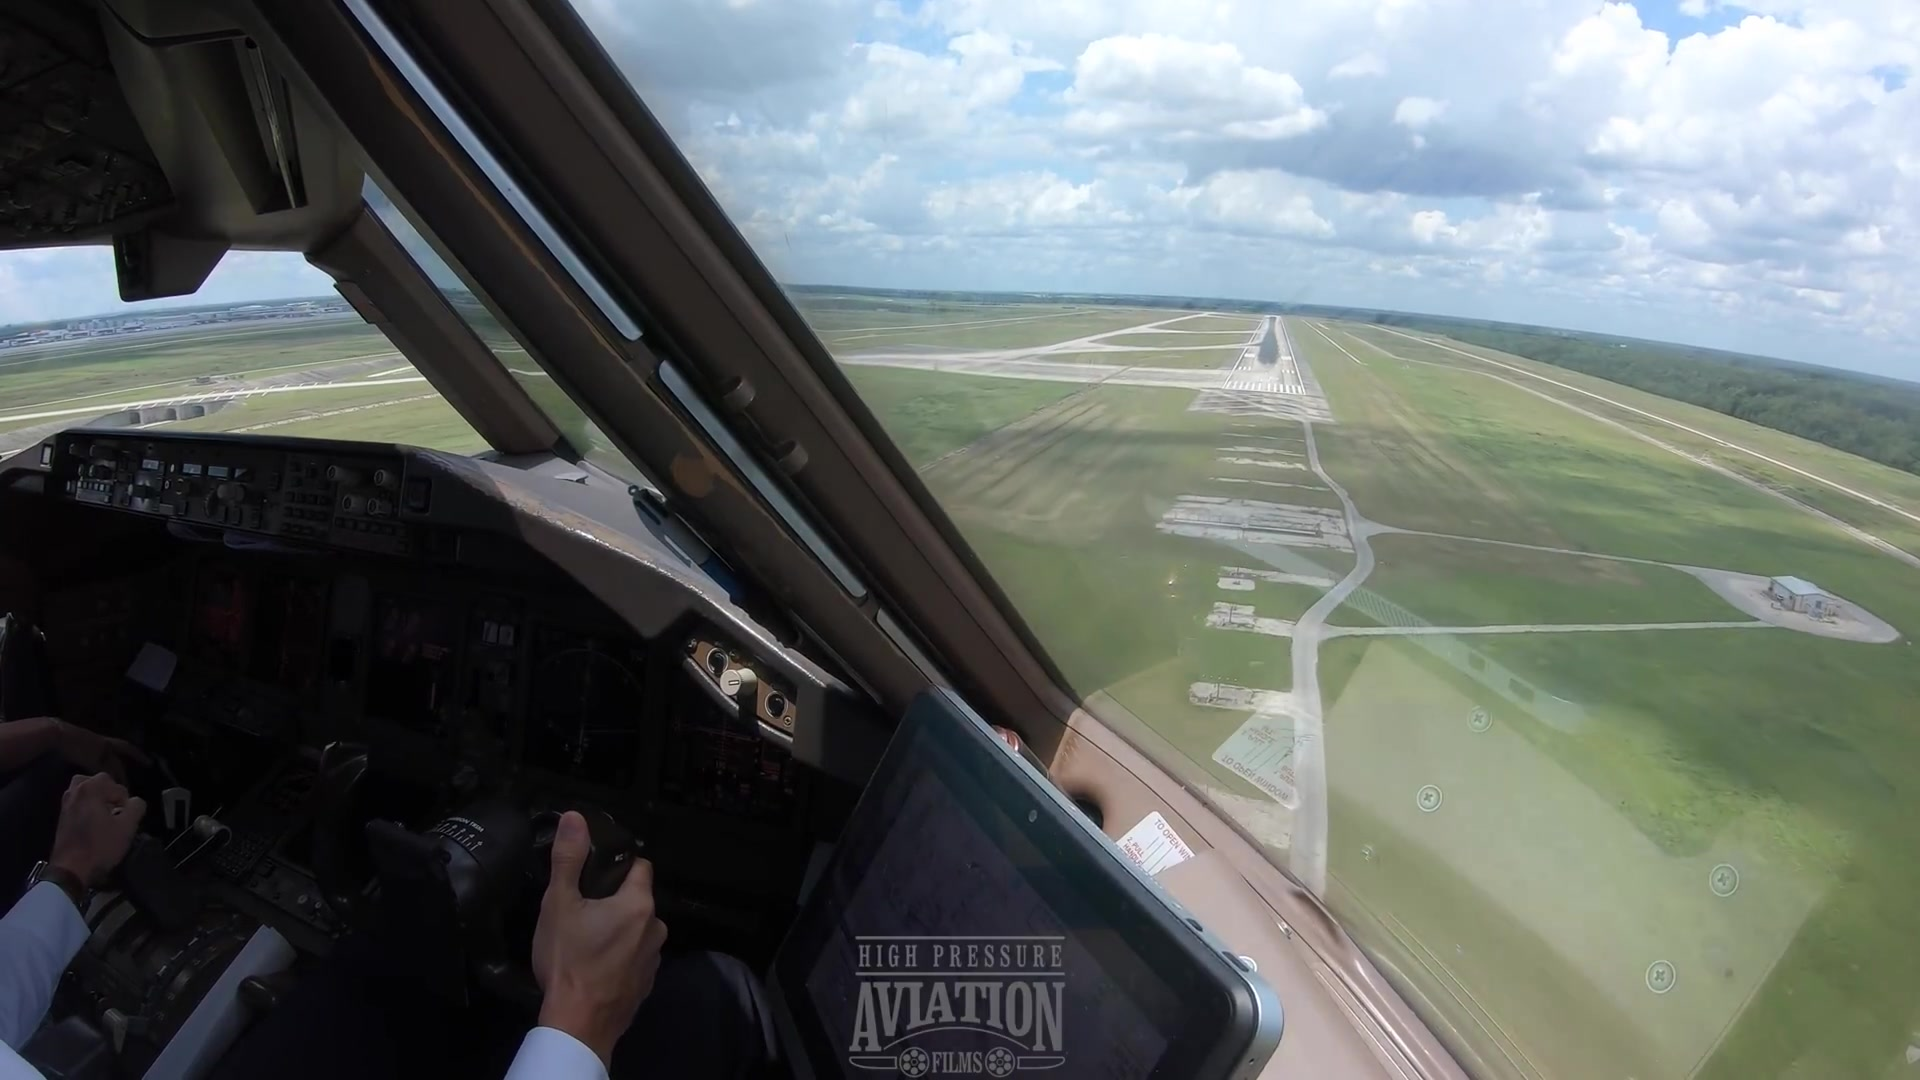entrance: (1221, 378, 1302, 394)
runway: (1221, 315, 1311, 404)
